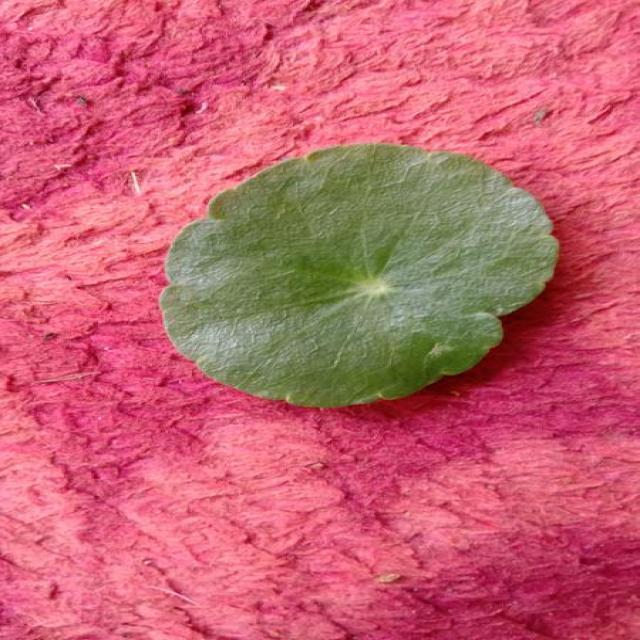bhrami: (160, 144, 558, 407)
